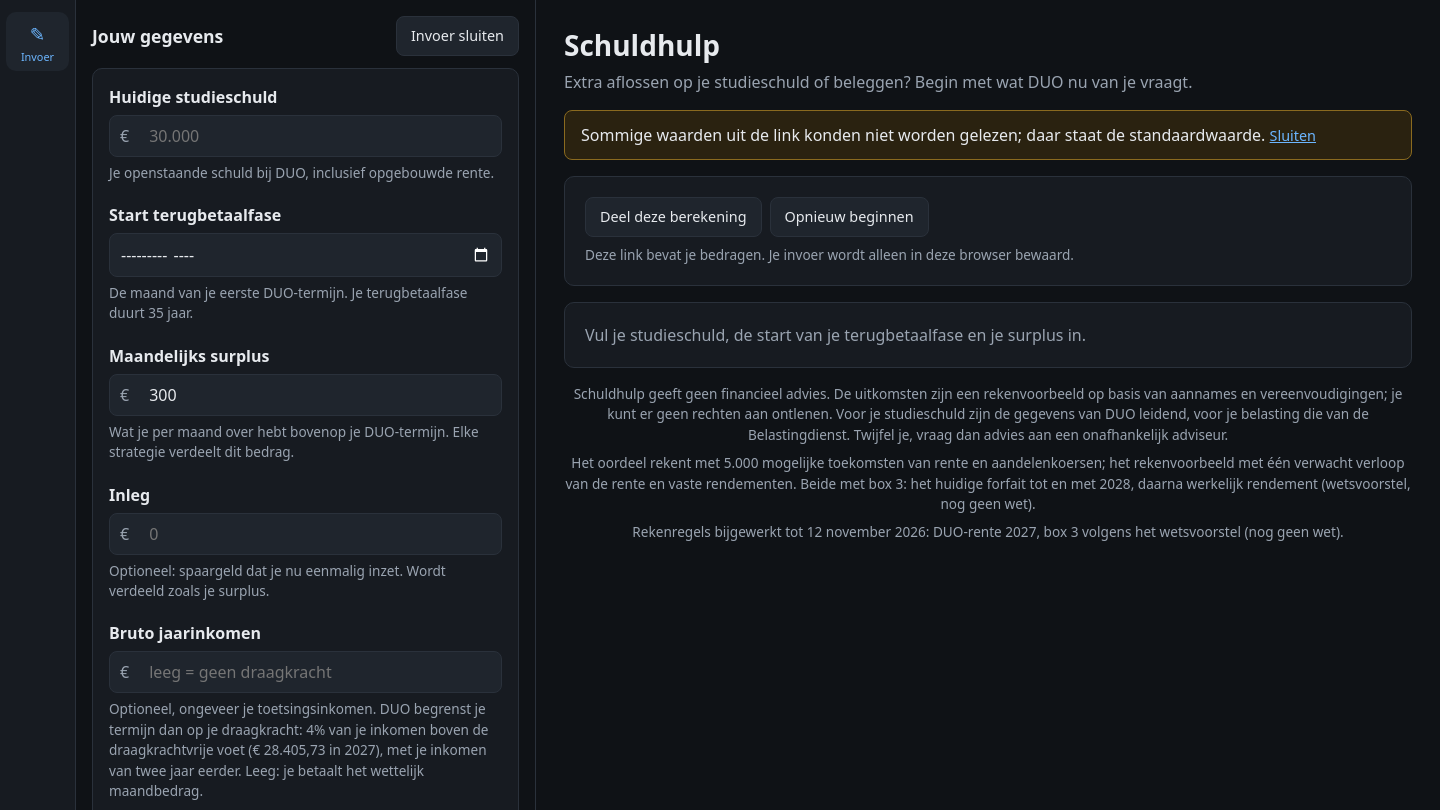
Scenario: share link (#31) › falls back to defaults for unreadable values and says so
Expected: the message shows "Sommige waarden uit de link konden niet worden gelezen", [581,124,1018,146]
Click the button "Sluiten" at (1293, 136), box [1270,125,1316,147]
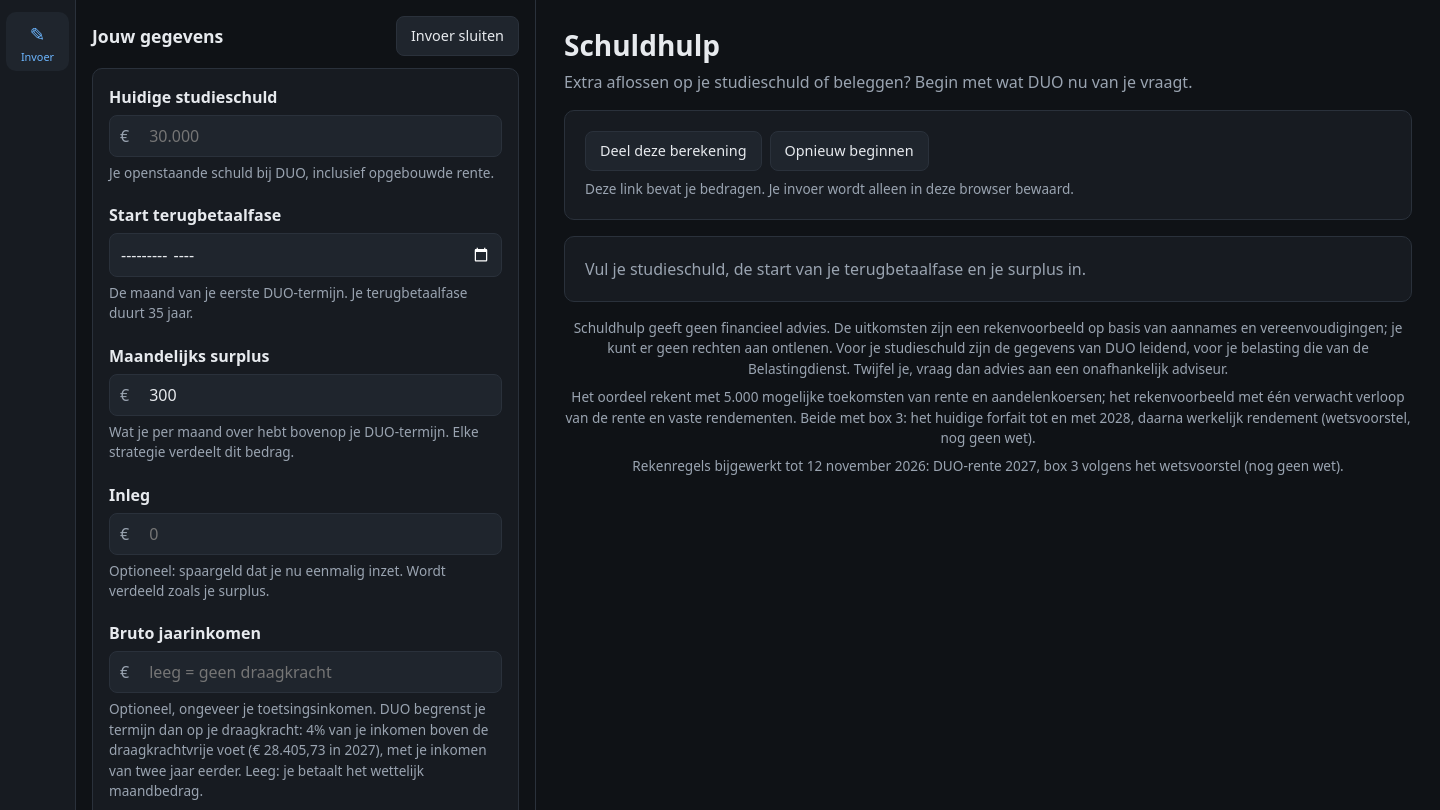
Expected: the text "Sommige waarden" is gone
